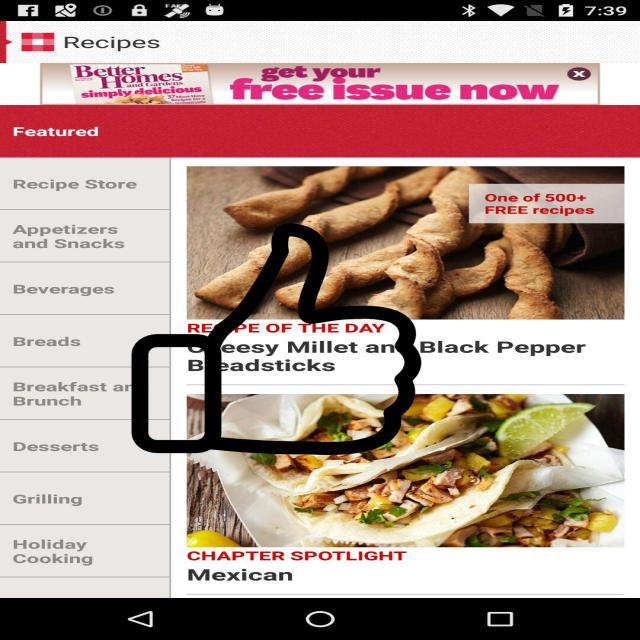privacy zuckering: (127, 223, 426, 455)
